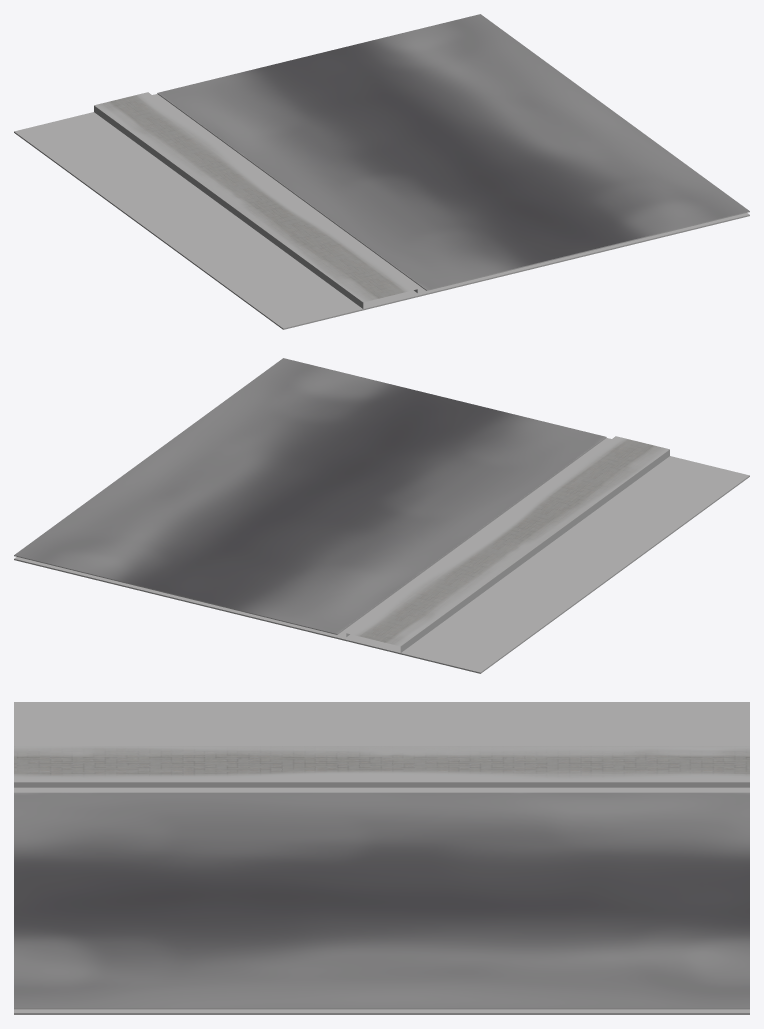
The model's file is CarPark_Extender.fbx.
3 renders of one model, top to bottom at view 1: azimuth 30°, elevation 25°; view 2: azimuth 150°, elevation 25°; view 3: azimuth 270°, elevation 25°, orthographic. The views are drawn at different scales.
Visible parts, largest first — view 1: Road_10X57, Road_10X35; view 2: Road_10X57, Road_10X35; view 3: Road_10X57, Road_10X35.
Part boxes in pixels (x1,y1,x2,y2): Road_10X57: (94,14,749,308); Road_10X35: (14,112,749,329); Road_10X57: (14,358,669,652); Road_10X35: (14,456,749,673); Road_10X57: (14,746,749,1009); Road_10X35: (14,702,749,1014).
Bounding box in the file's own units: 10 × 0.1624 × 10.
